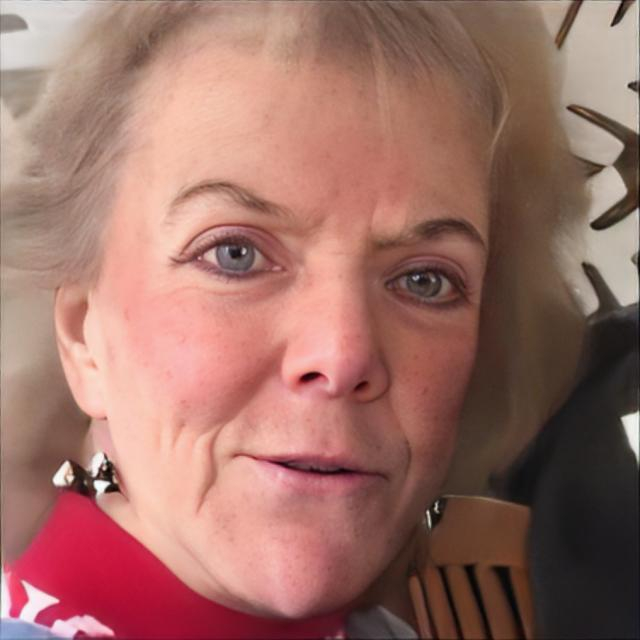content: (102, 31, 488, 617)
